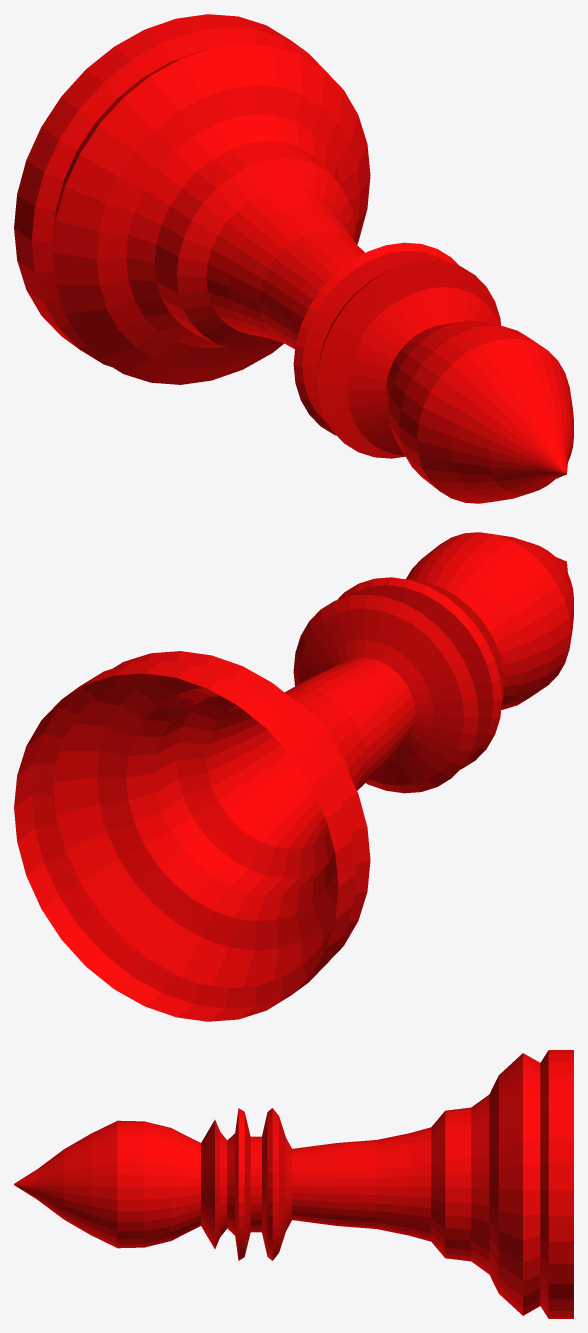
File: bispoP.obj
3 renders of one model, top to bottom at view 1: azimuth 30°, elevation 25°; view 2: azimuth 150°, elevation 25°; view 3: azimuth 270°, elevation 25°, orthographic. The views are drawn at different scales.
Parts seen in each view (by area): view 1: Circle.003; view 2: Circle.003; view 3: Circle.003.
Part boxes in pixels (x1,y1,x2,y2): Circle.003: (14, 14, 573, 503); Circle.003: (14, 532, 573, 1021); Circle.003: (14, 1050, 573, 1318).
Size of the model in its own units: 1.3 by 1.3 by 2.71.
